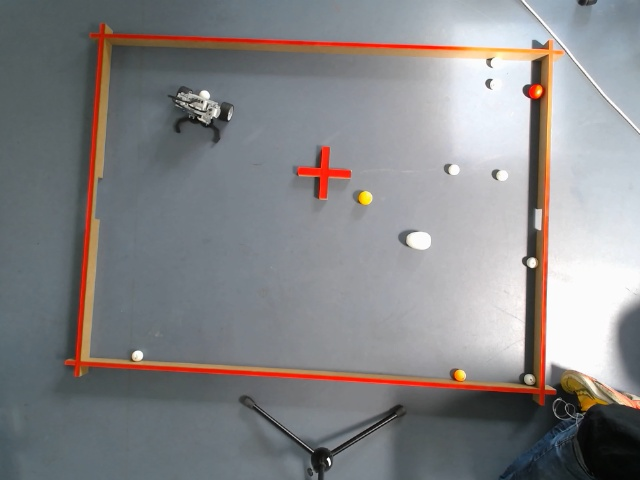big_goal: (86, 177, 102, 219)
cross: (298, 146, 350, 200)
egg: (404, 231, 431, 249)
orange: (452, 369, 466, 381)
robot: (174, 86, 234, 144)
small_goal: (532, 207, 548, 231)
wall: (78, 359, 540, 393), (106, 33, 548, 62), (75, 36, 113, 360), (532, 54, 551, 390)
white: (524, 255, 538, 267), (490, 57, 502, 69), (488, 78, 501, 89), (522, 374, 536, 384), (495, 170, 507, 180), (132, 350, 144, 360), (448, 165, 458, 174), (198, 89, 210, 96)
